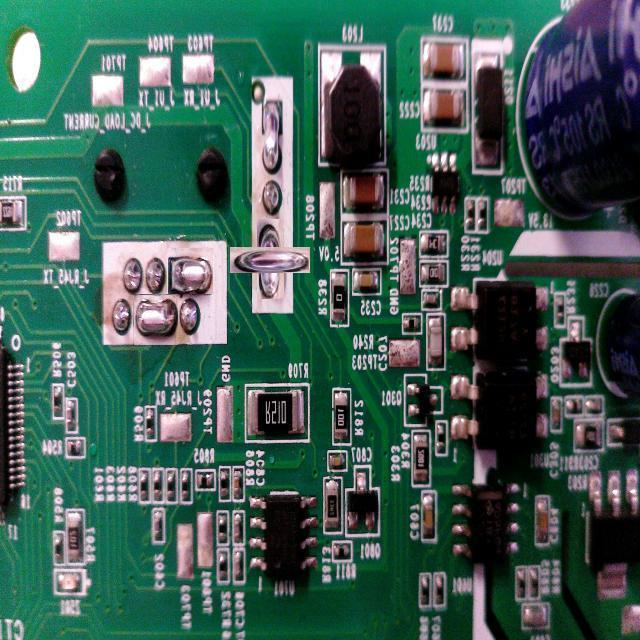Short_circuit: (244, 233, 297, 286), (133, 294, 178, 345), (167, 248, 213, 294), (260, 99, 282, 174)
